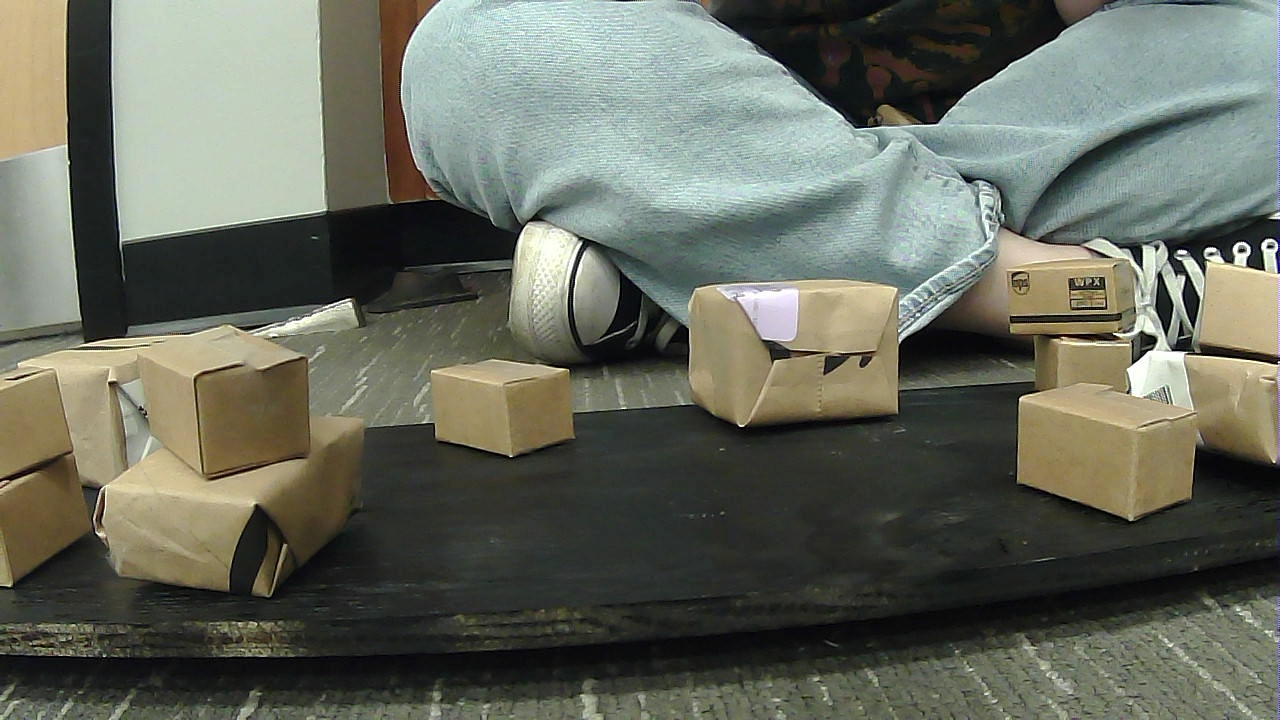package: (137, 401, 357, 600), (667, 281, 900, 441), (1017, 382, 1197, 533), (127, 323, 311, 469), (31, 338, 159, 486), (427, 358, 577, 466), (1159, 344, 1276, 465), (995, 261, 1145, 343), (1008, 335, 1136, 427), (1178, 258, 1278, 368), (1, 468, 92, 583), (4, 376, 81, 464)
stacked: (107, 335, 367, 599), (1164, 257, 1279, 475), (1009, 262, 1144, 432), (3, 370, 97, 590)
